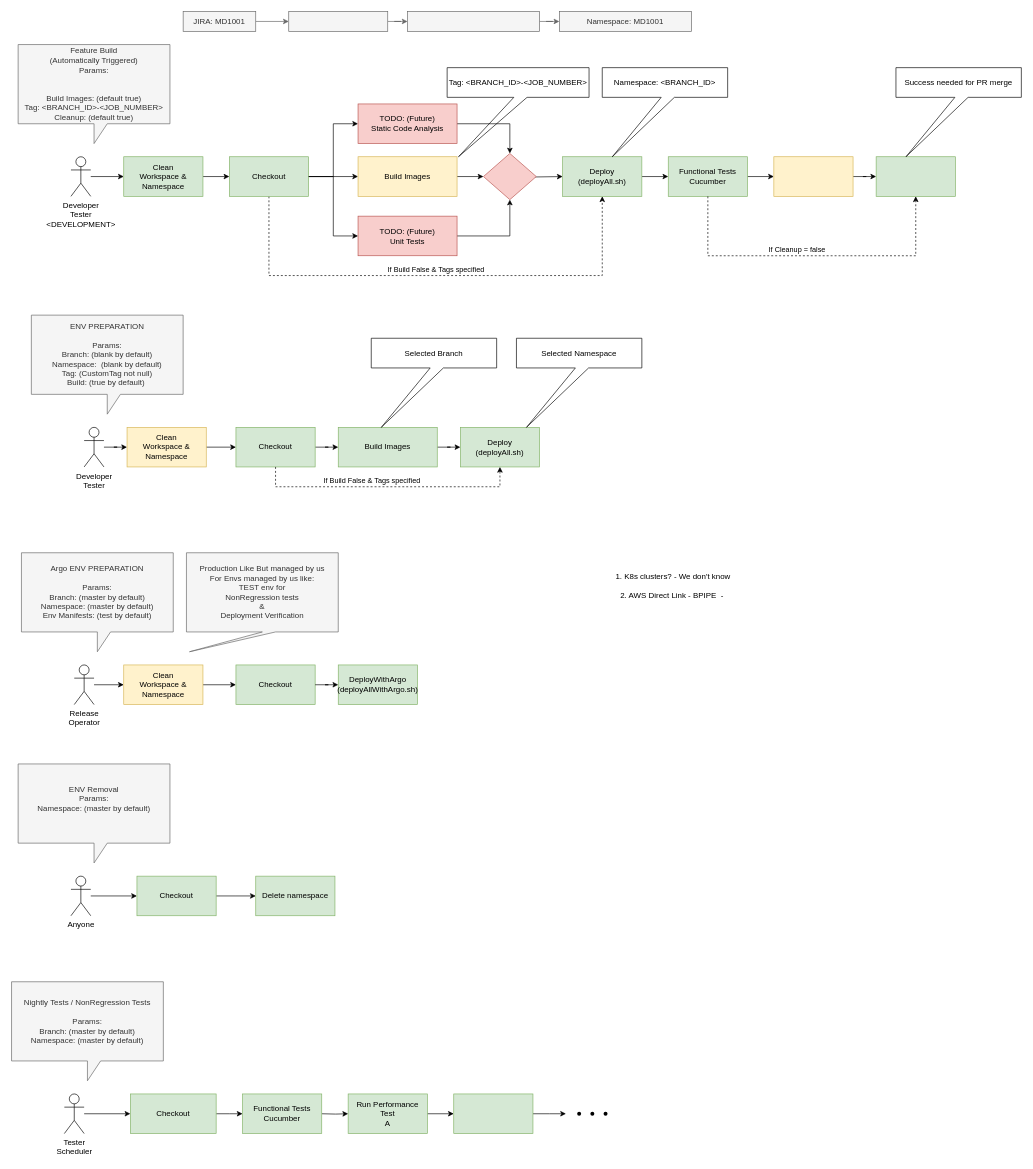
Some shapes in this 1033 by 1169 pixel diagram are drawn without their labels. Each missing label, with the box of its shape:
Branch: MD1001-Blabla: (288, 11, 388, 31)
Clean Namespace: (773, 156, 853, 196)
Images: MD1001-#BuildNumber: (407, 11, 540, 31)
Repo Notification Success / Failed: (875, 156, 955, 196)
Run Performance Test B: (453, 1093, 533, 1134)
Success: (483, 153, 536, 200)
